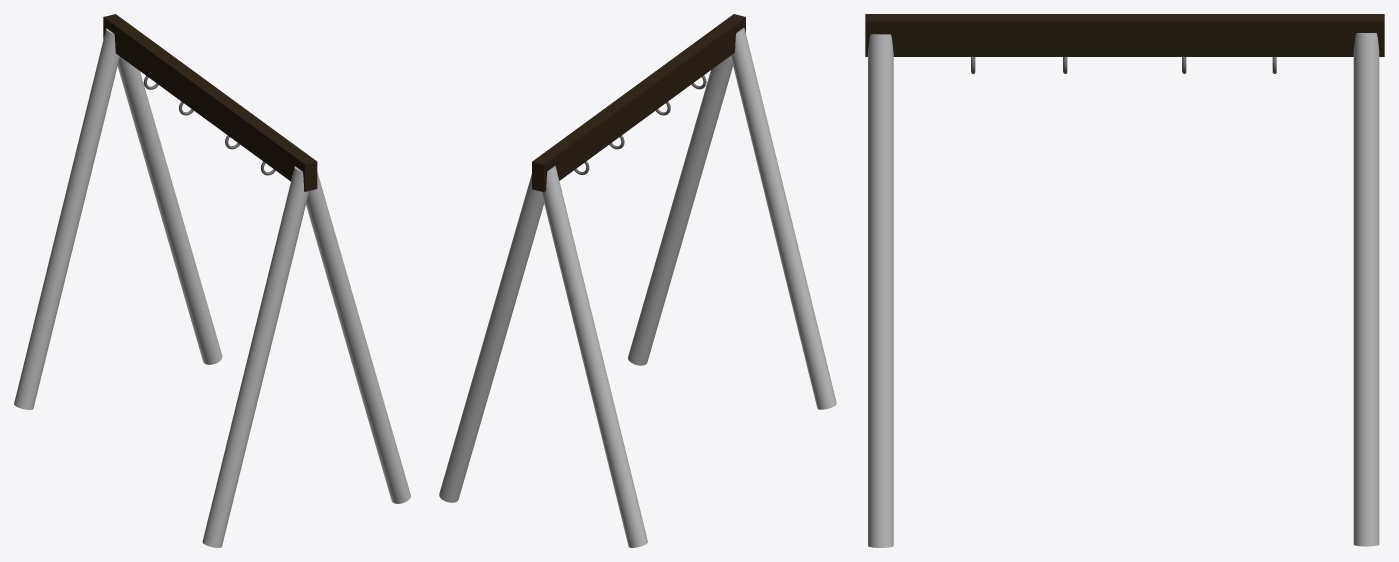
File: swing1.obj
3 renders of one model, left to right at view 1: azimuth 30°, elevation 25°; view 2: azimuth 150°, elevation 25°; view 3: azimuth 270°, elevation 25°, orthographic. The views are drawn at different scales.
Visible parts, largest first — view 1: Box001, Cylinder001, Cylinder004, Cylinder002, Cylinder003; view 2: Box001, Cylinder004, Cylinder001, Cylinder003, Cylinder002; view 3: Box001, Cylinder003, Cylinder002.
Boxes of the visible parts, left/top/right/bottom form: Box001: left=103, top=14, right=317, bottom=191; Cylinder001: left=202, top=166, right=308, bottom=547; Cylinder004: left=14, top=28, right=119, bottom=409; Cylinder002: left=306, top=172, right=410, bottom=503; Cylinder003: left=117, top=57, right=222, bottom=364; Box001: left=532, top=14, right=745, bottom=191; Cylinder004: left=541, top=166, right=647, bottom=547; Cylinder001: left=731, top=27, right=836, bottom=409; Cylinder003: left=439, top=174, right=543, bottom=502; Cylinder002: left=628, top=56, right=732, bottom=365; Box001: left=865, top=14, right=1384, bottom=56; Cylinder003: left=1353, top=33, right=1379, bottom=546; Cylinder002: left=868, top=34, right=893, bottom=547.
Bounding box in the file's own units: 1.18 × 2 × 2.
